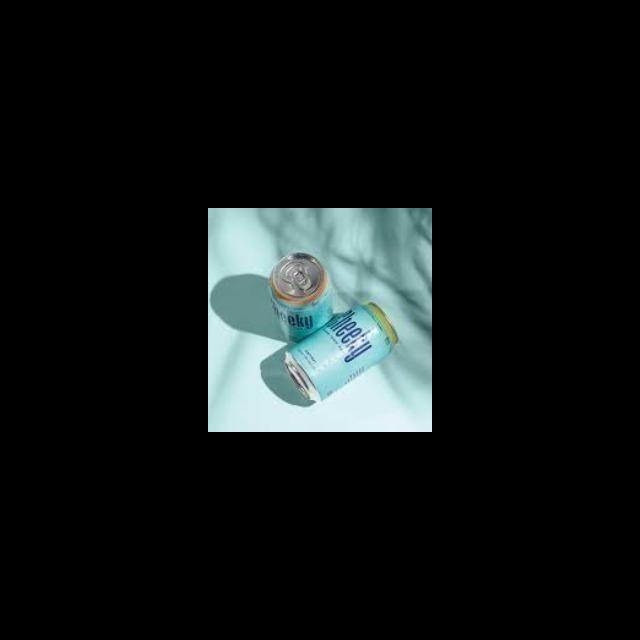metal: (271, 298, 407, 409), (257, 247, 342, 346)
